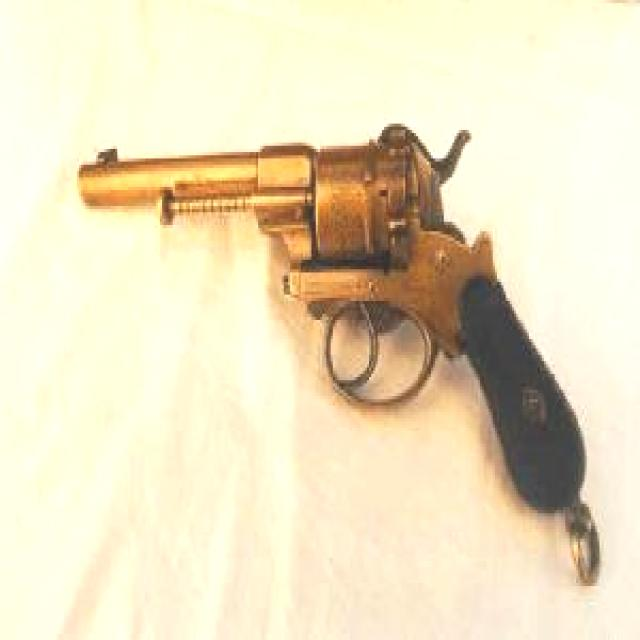pistol: (81, 114, 589, 510)
